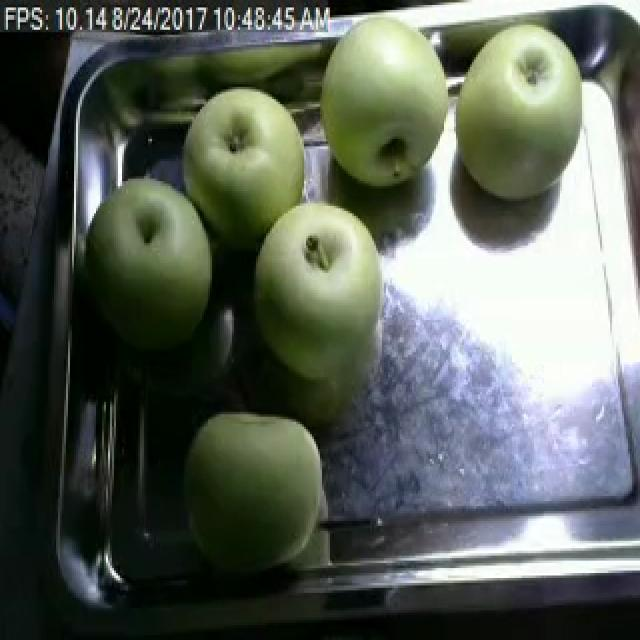50-_ripeness: (173, 410, 353, 587), (301, 10, 453, 192), (248, 200, 397, 383), (94, 173, 230, 362), (446, 30, 588, 208), (160, 76, 310, 244)
